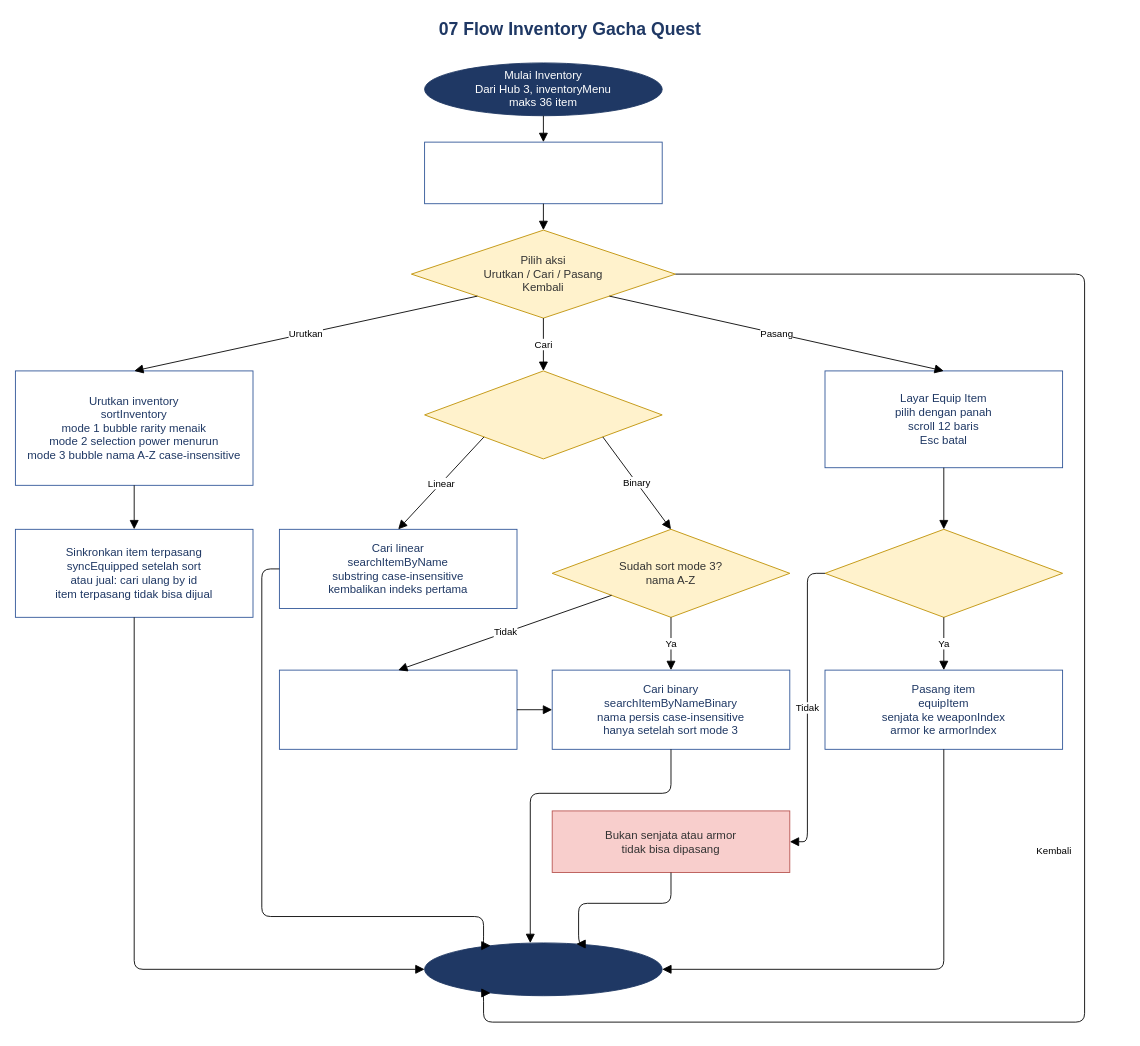
Image size: 1140x1046. Some labels were removed from this diagram. The centre of each missing label's shape, as x and y in pixels:
"Cari dengan apa? Linear / Binary" goes at point (543, 414).
"Selesai Kembali ke Hub" goes at point (543, 969).
"Tampilkan panel daftar 4 baris pertama item nama dipotong 17 kolom" goes at point (543, 172).
"Tipe item? Senjata / Armor" goes at point (943, 572).
"Urutkan dulu mode 3 sortInventory(p, 3) nama A-Z case-insensitive" goes at point (398, 709).
